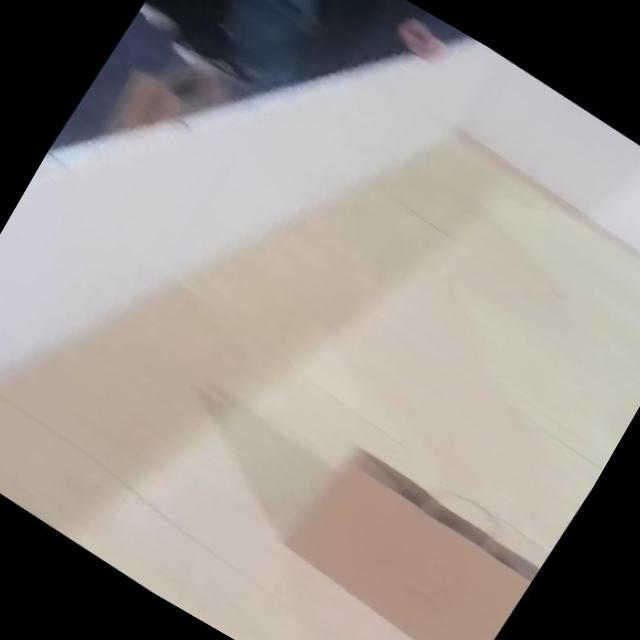Kardus: (0, 0, 640, 640), (271, 434, 550, 640)
